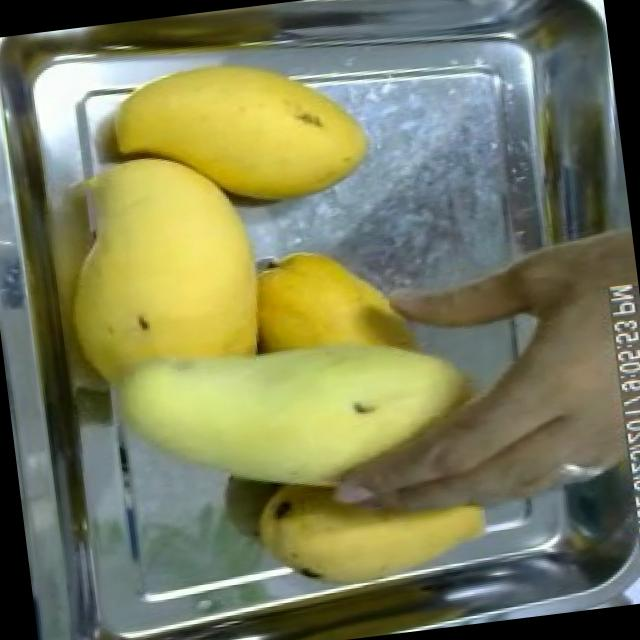fruit: (92, 214, 500, 532), (29, 125, 298, 498), (95, 36, 382, 235), (245, 458, 510, 600)
